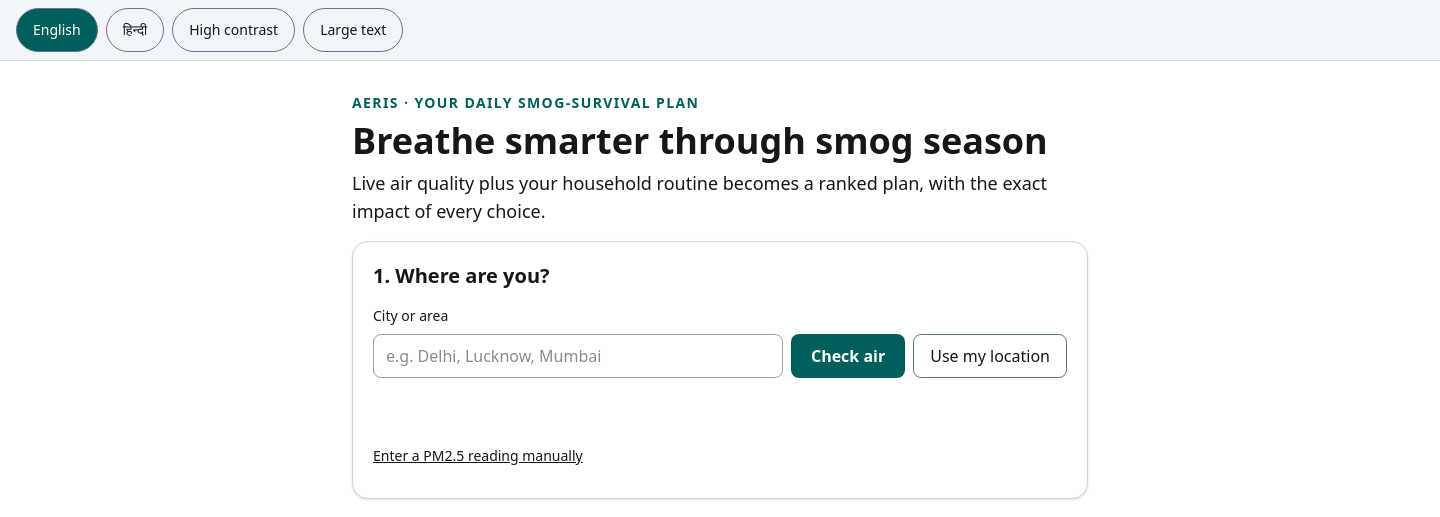
Test: live air › explains when location access is refused
The image size is (1440, 517).
Click the button "Use my location": (990, 356) [913,334,1067,378]
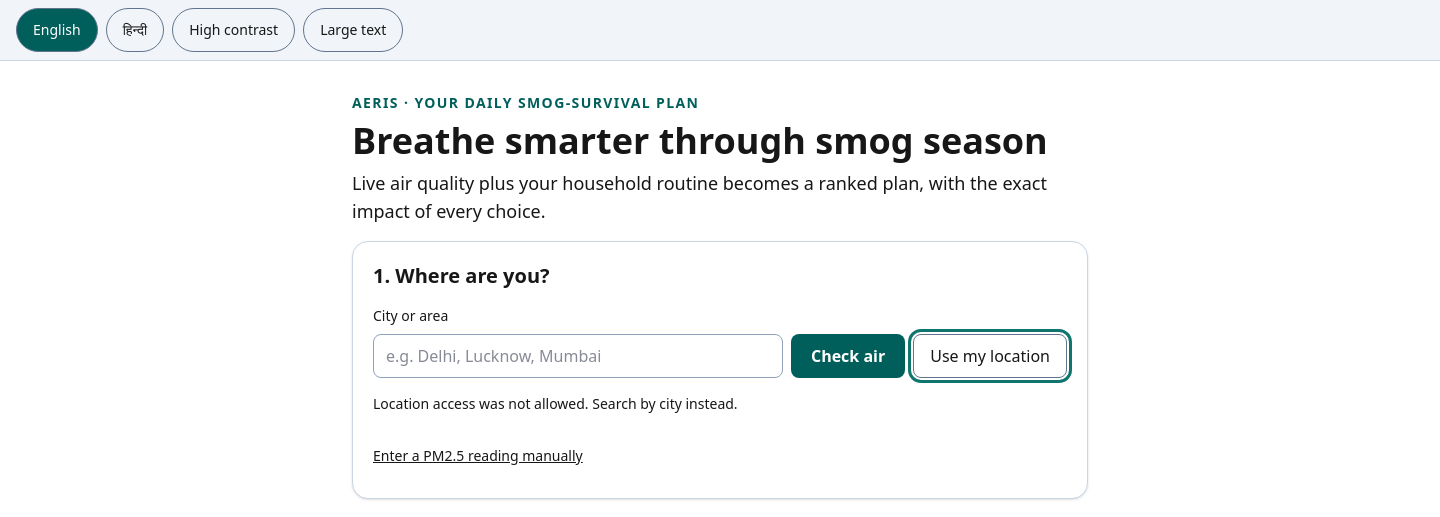
Expected: the message shows "Location access was not allowed", [373,394,738,413]
